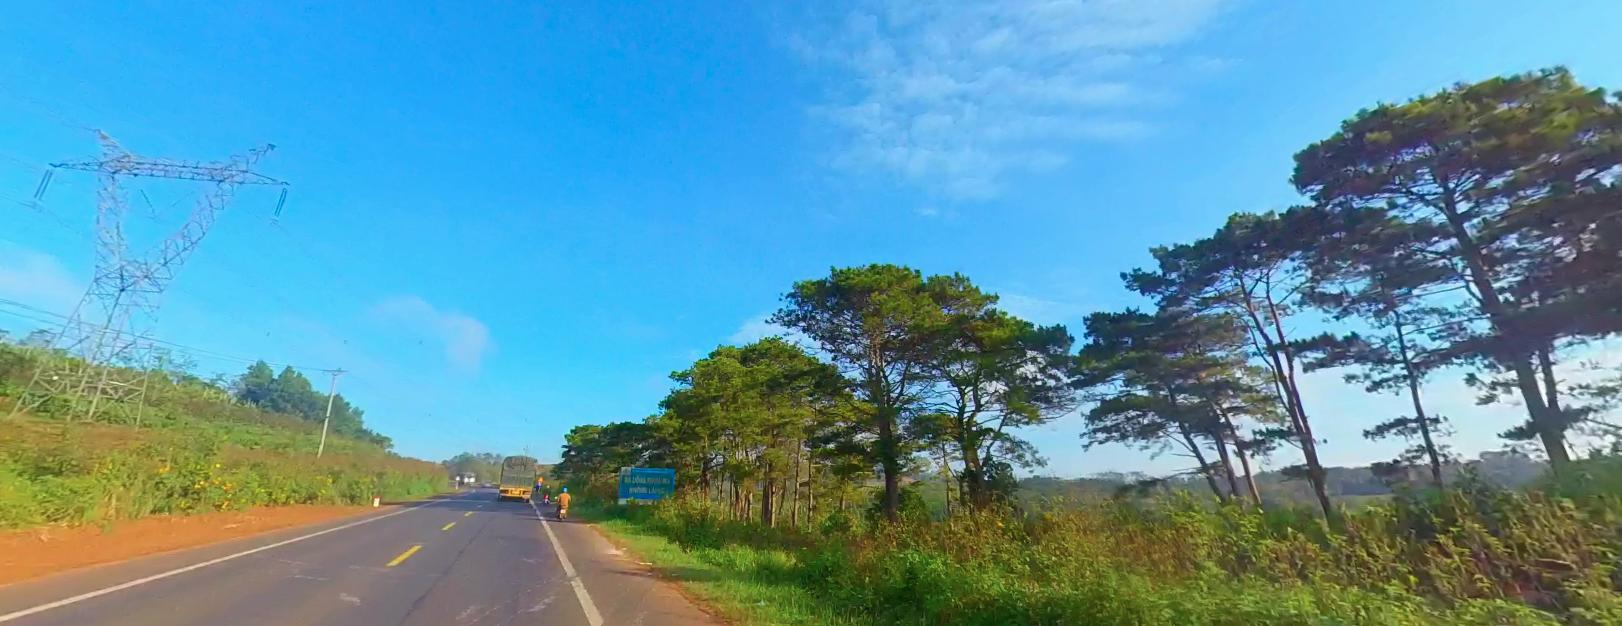Nguy hiem: (537, 474, 543, 480)
